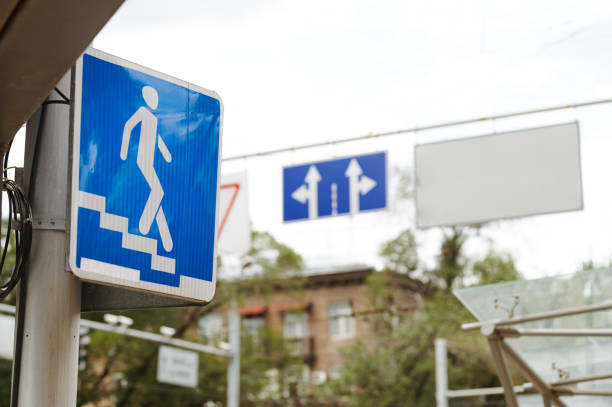ileri_veya_saga: (283, 166, 344, 221), (345, 158, 390, 219)
yaya: (66, 42, 231, 316)
